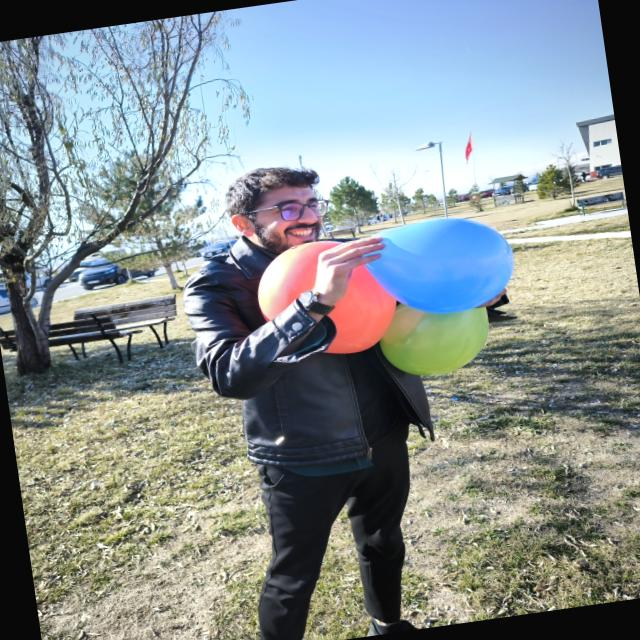balloon: (366, 218, 514, 313), (380, 304, 489, 376), (327, 265, 396, 354), (258, 241, 333, 320)
